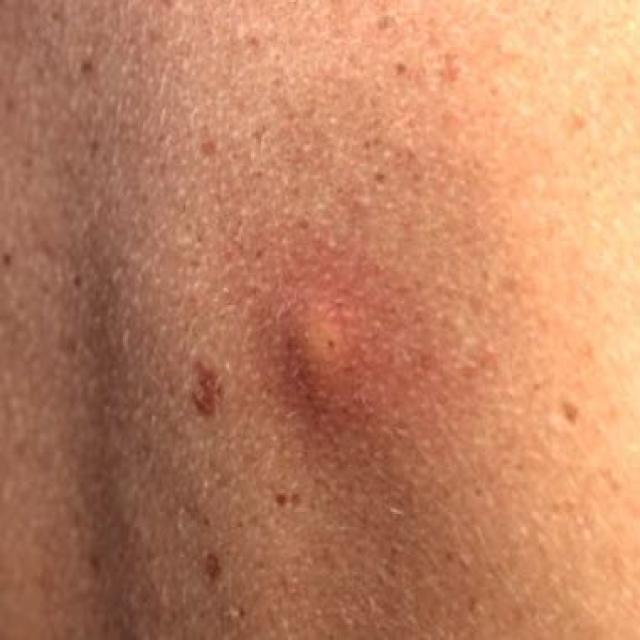sinek: (245, 284, 387, 400)
